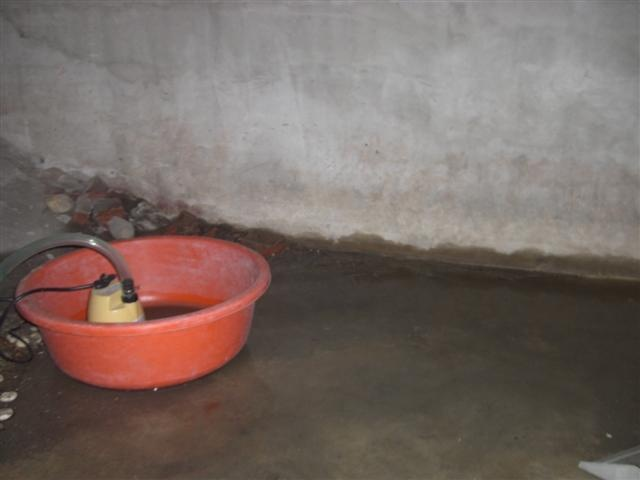bowl: (14, 233, 274, 391)
